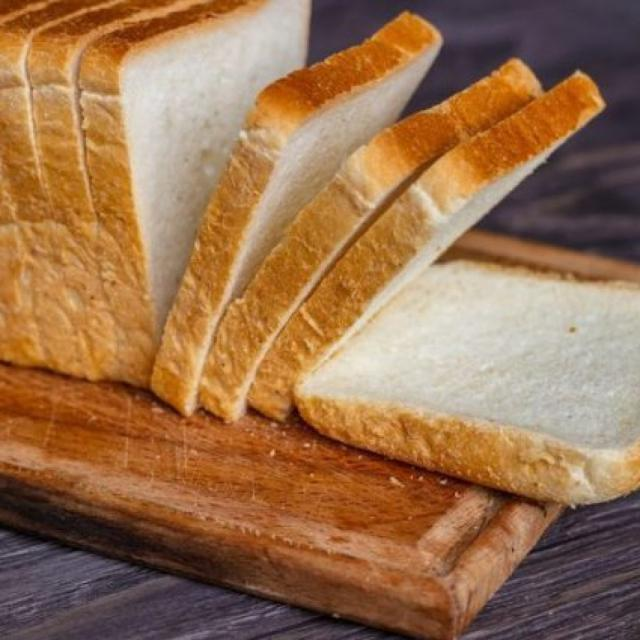Bread: (2, 0, 640, 511)
